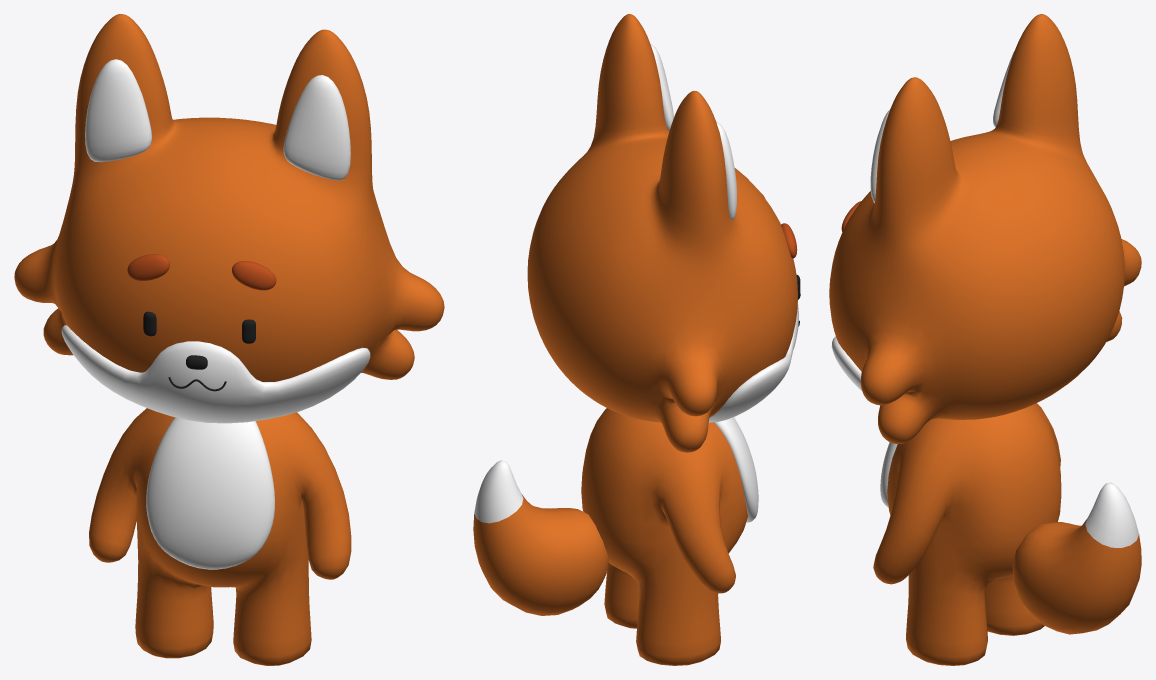
Rendered from fox.glb.
3 views of the same model, side by side, from view 1: azimuth 30°, elevation 25°; view 2: azimuth 150°, elevation 25°; view 3: azimuth 270°, elevation 25° (orthographic). The views are drawn at different scales.
Visible parts, largest first — view 1: Cube, Cube.001, Cube.004, Cube.002, Cube.003, Cube.006, Cube.005; view 2: Cube, Cube.001, Cube.008, Cube.002, Cube.004, Cube.003; view 3: Cube, Cube.001, Cube.008, Cube.003, Cube.002, Cube.004.
Boxes of the visible parts, left/top/right/bottom form: Cube: left=14, top=14, right=444, bottom=381; Cube.001: left=89, top=408, right=351, bottom=665; Cube.004: left=146, top=417, right=274, bottom=569; Cube.002: left=61, top=325, right=370, bottom=423; Cube.003: left=85, top=59, right=350, bottom=180; Cube.006: left=127, top=254, right=276, bottom=290; Cube.005: left=143, top=311, right=255, bottom=343; Cube: left=527, top=14, right=797, bottom=452; Cube.001: left=581, top=408, right=747, bottom=665; Cube.008: left=473, top=460, right=608, bottom=615; Cube.002: left=708, top=303, right=798, bottom=422; Cube.004: left=714, top=417, right=758, bottom=522; Cube.003: left=650, top=44, right=736, bottom=220; Cube: left=829, top=14, right=1141, bottom=443; Cube.001: left=873, top=403, right=1061, bottom=665; Cube.008: left=1012, top=482, right=1141, bottom=634; Cube.003: left=870, top=51, right=1014, bottom=202; Cube.002: left=831, top=336, right=861, bottom=390; Cube.004: left=880, top=442, right=897, bottom=507.
Bounding box in the file's own units: 2.03 × 3.96 × 1.89.
